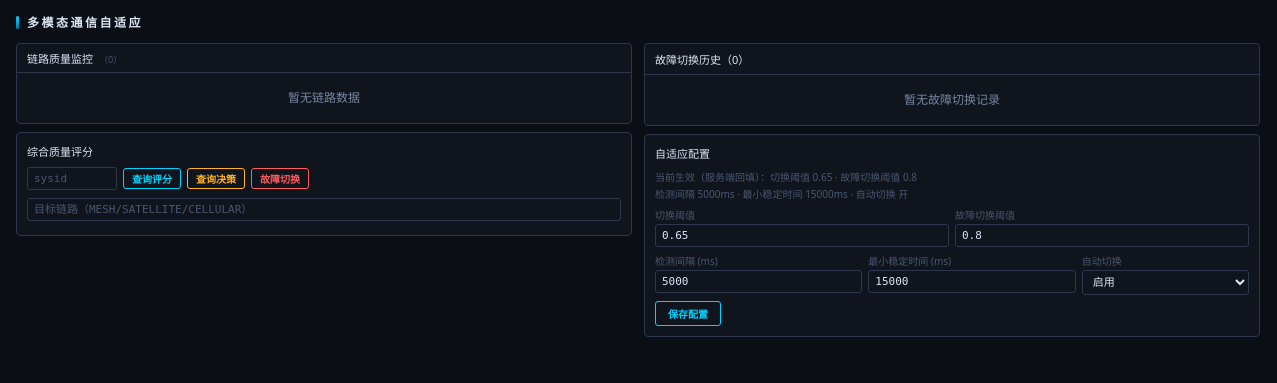
Test: CommAdaptPanel：能看到服务端当前生效的自适应配置 › 原有的 configSuccess 成功提示仍在（本次没有拿掉任何已有反馈）
The width and height of the screenshot is (1277, 383).
Expected: the number field named "切换阈值" is shown, [655,224,949,247]
Click the button "保存配置". click: [688, 313]
box: [655,301,721,326]
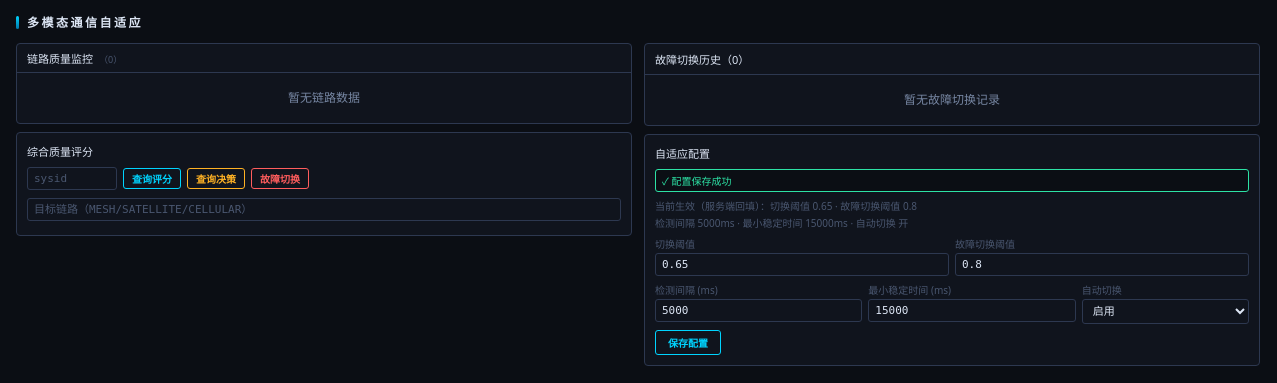
Now the text "✓ 配置保存成功" is shown, box [655,169,1249,192]
